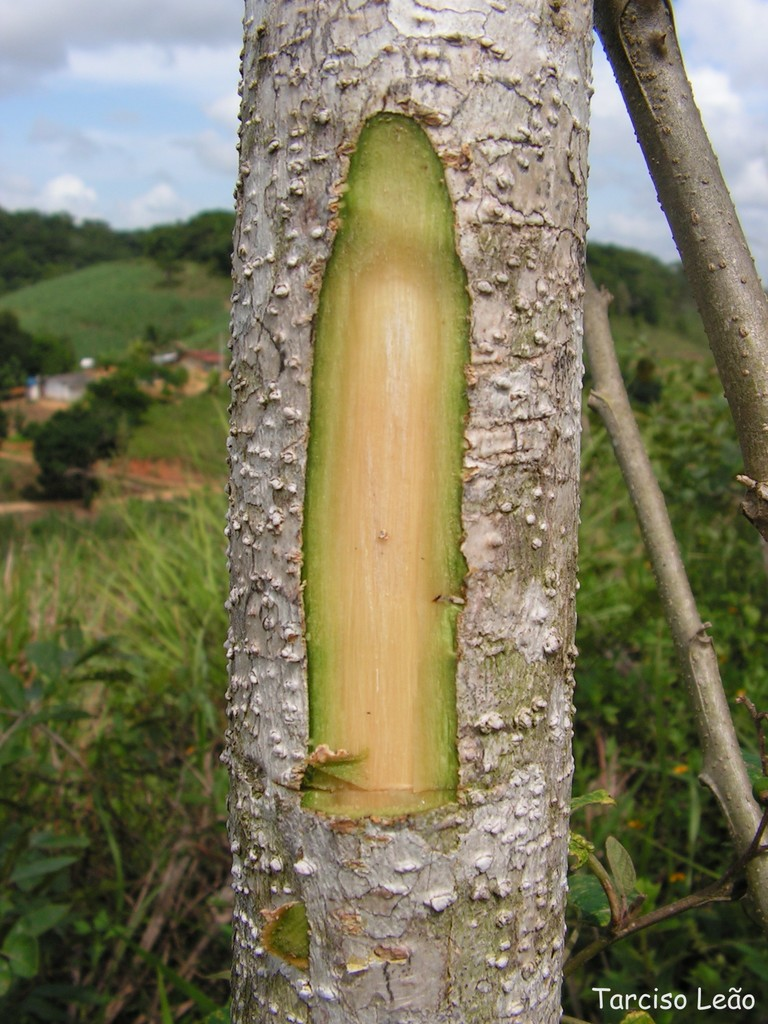Tree: (213, 0, 767, 1022)
